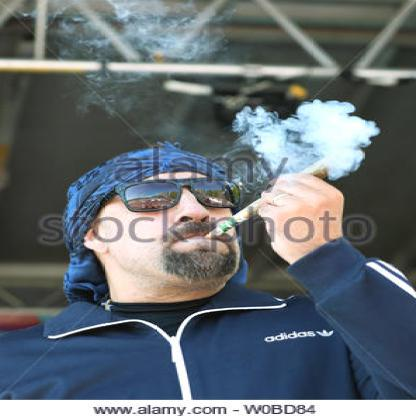person: (0, 144, 415, 415)
smoke: (229, 102, 385, 176), (116, 0, 231, 63)
